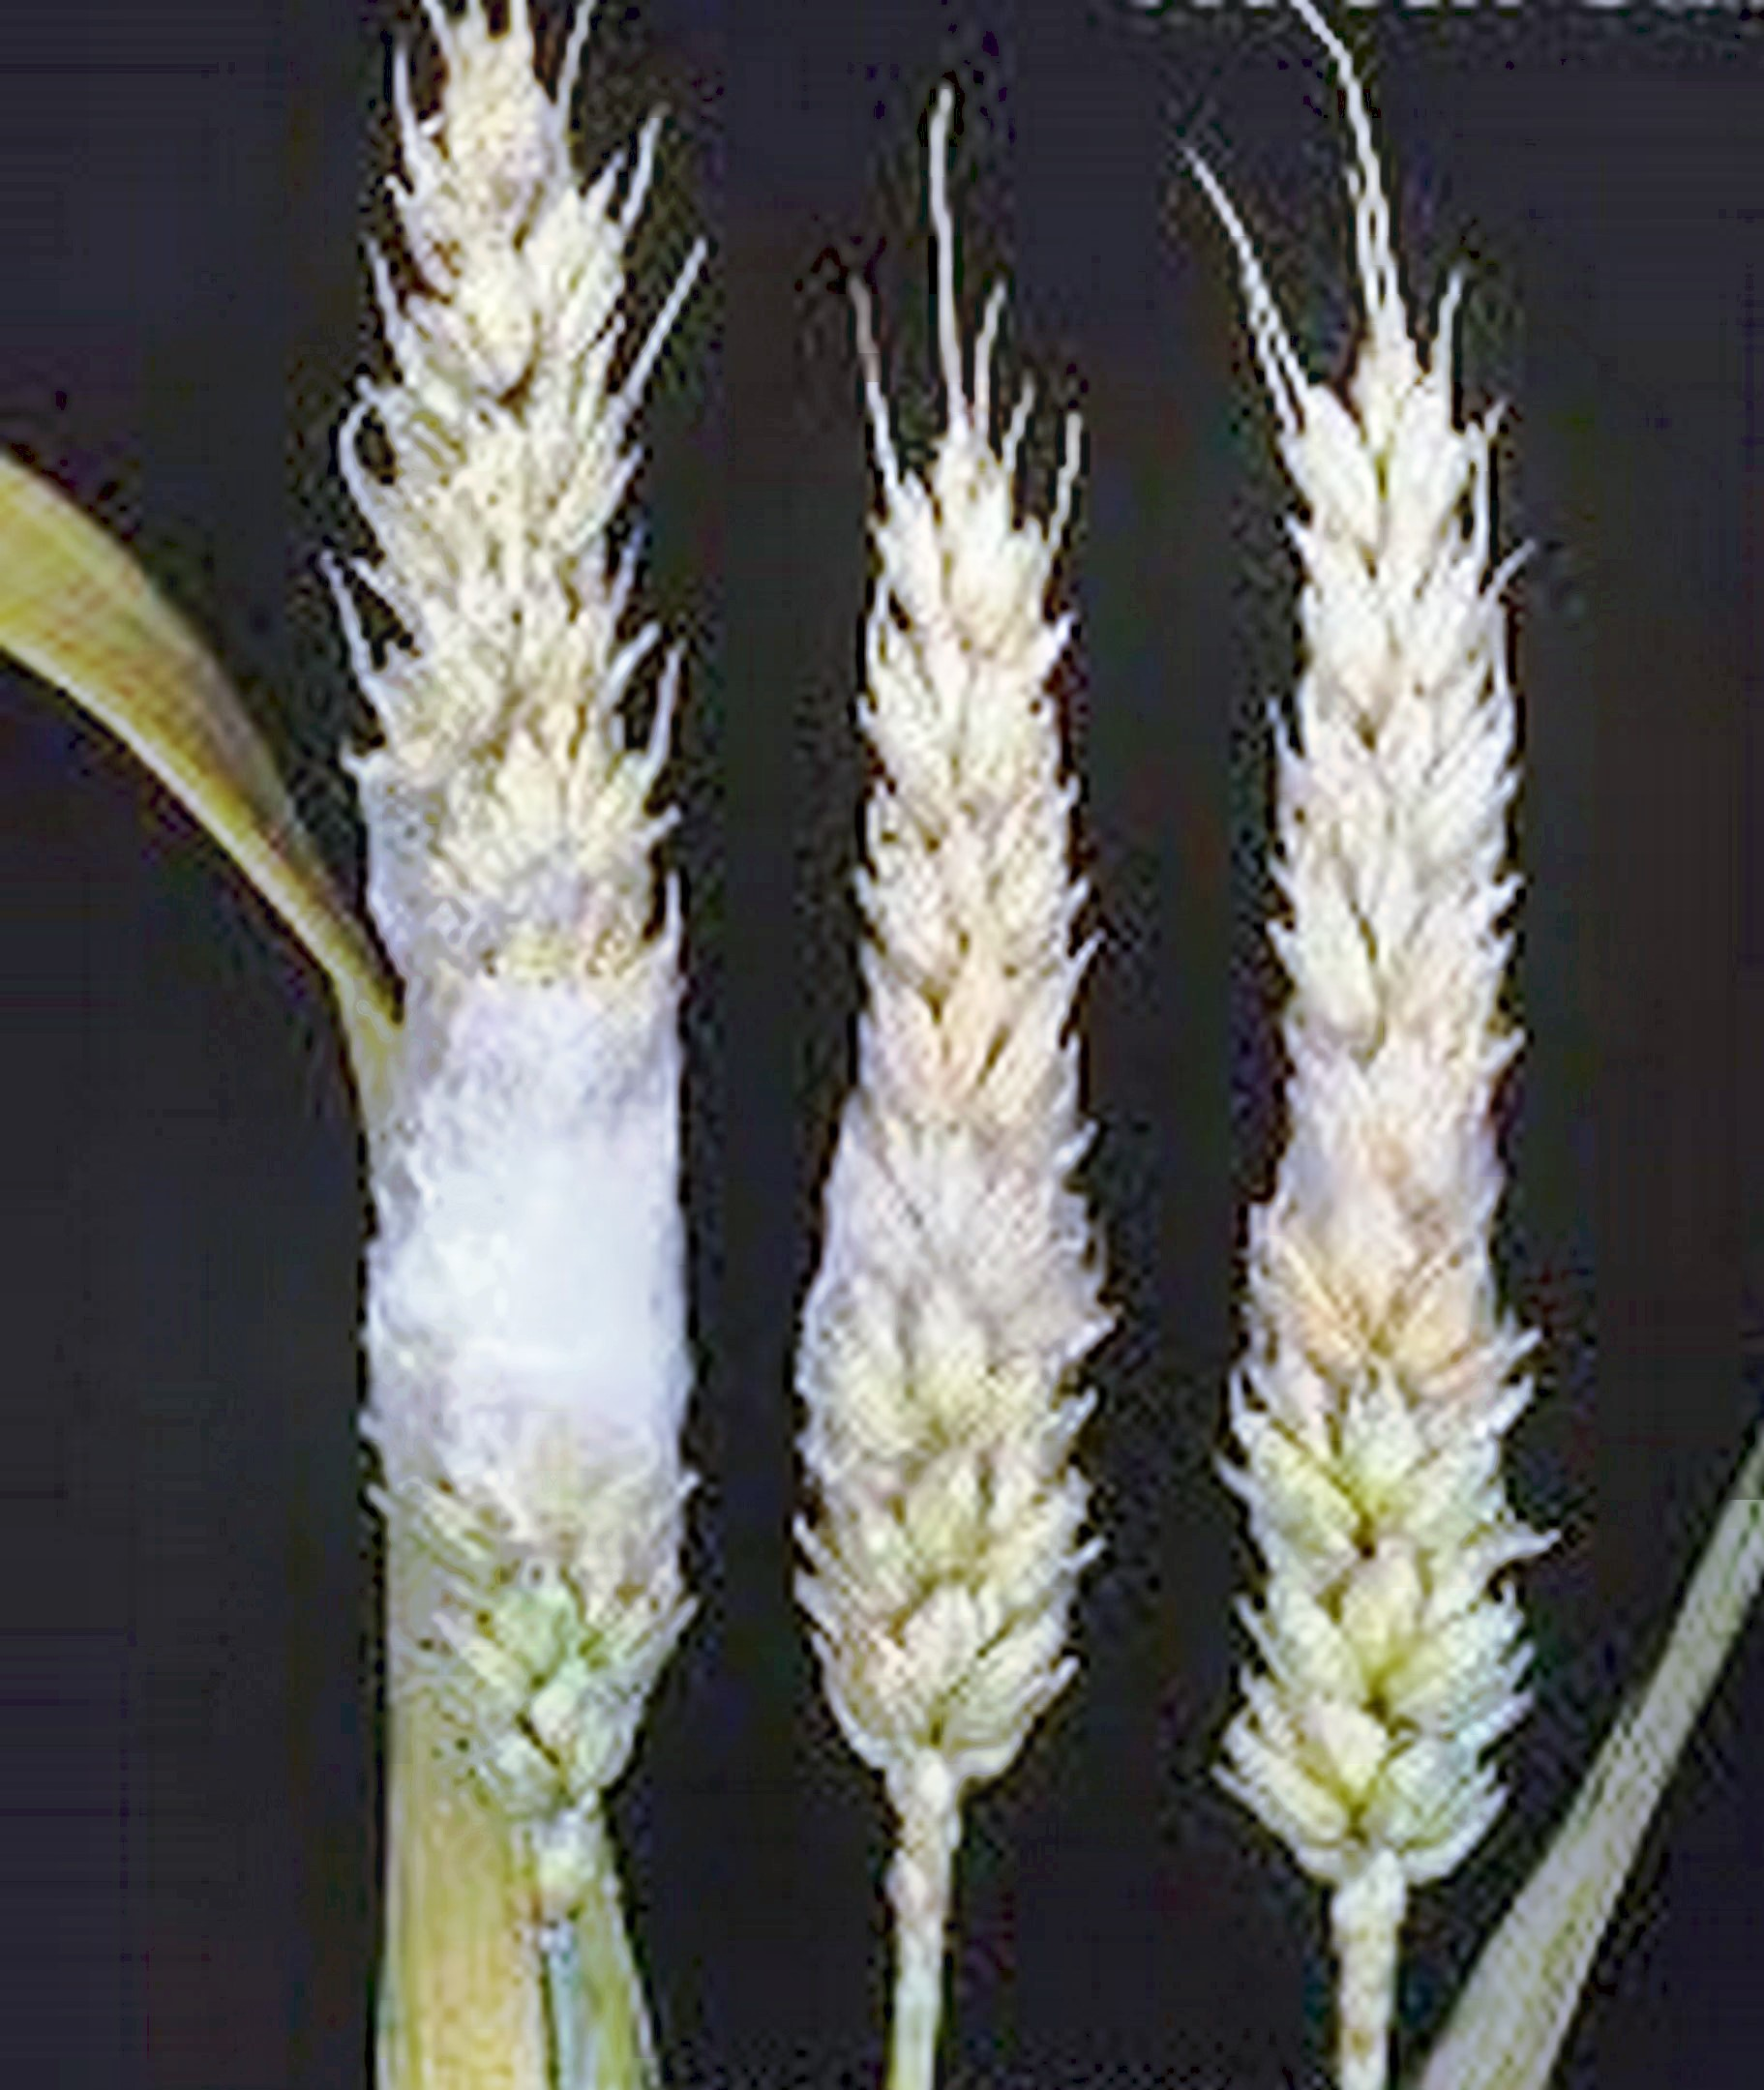Wheat scab: (1172, 291, 1561, 1882)
